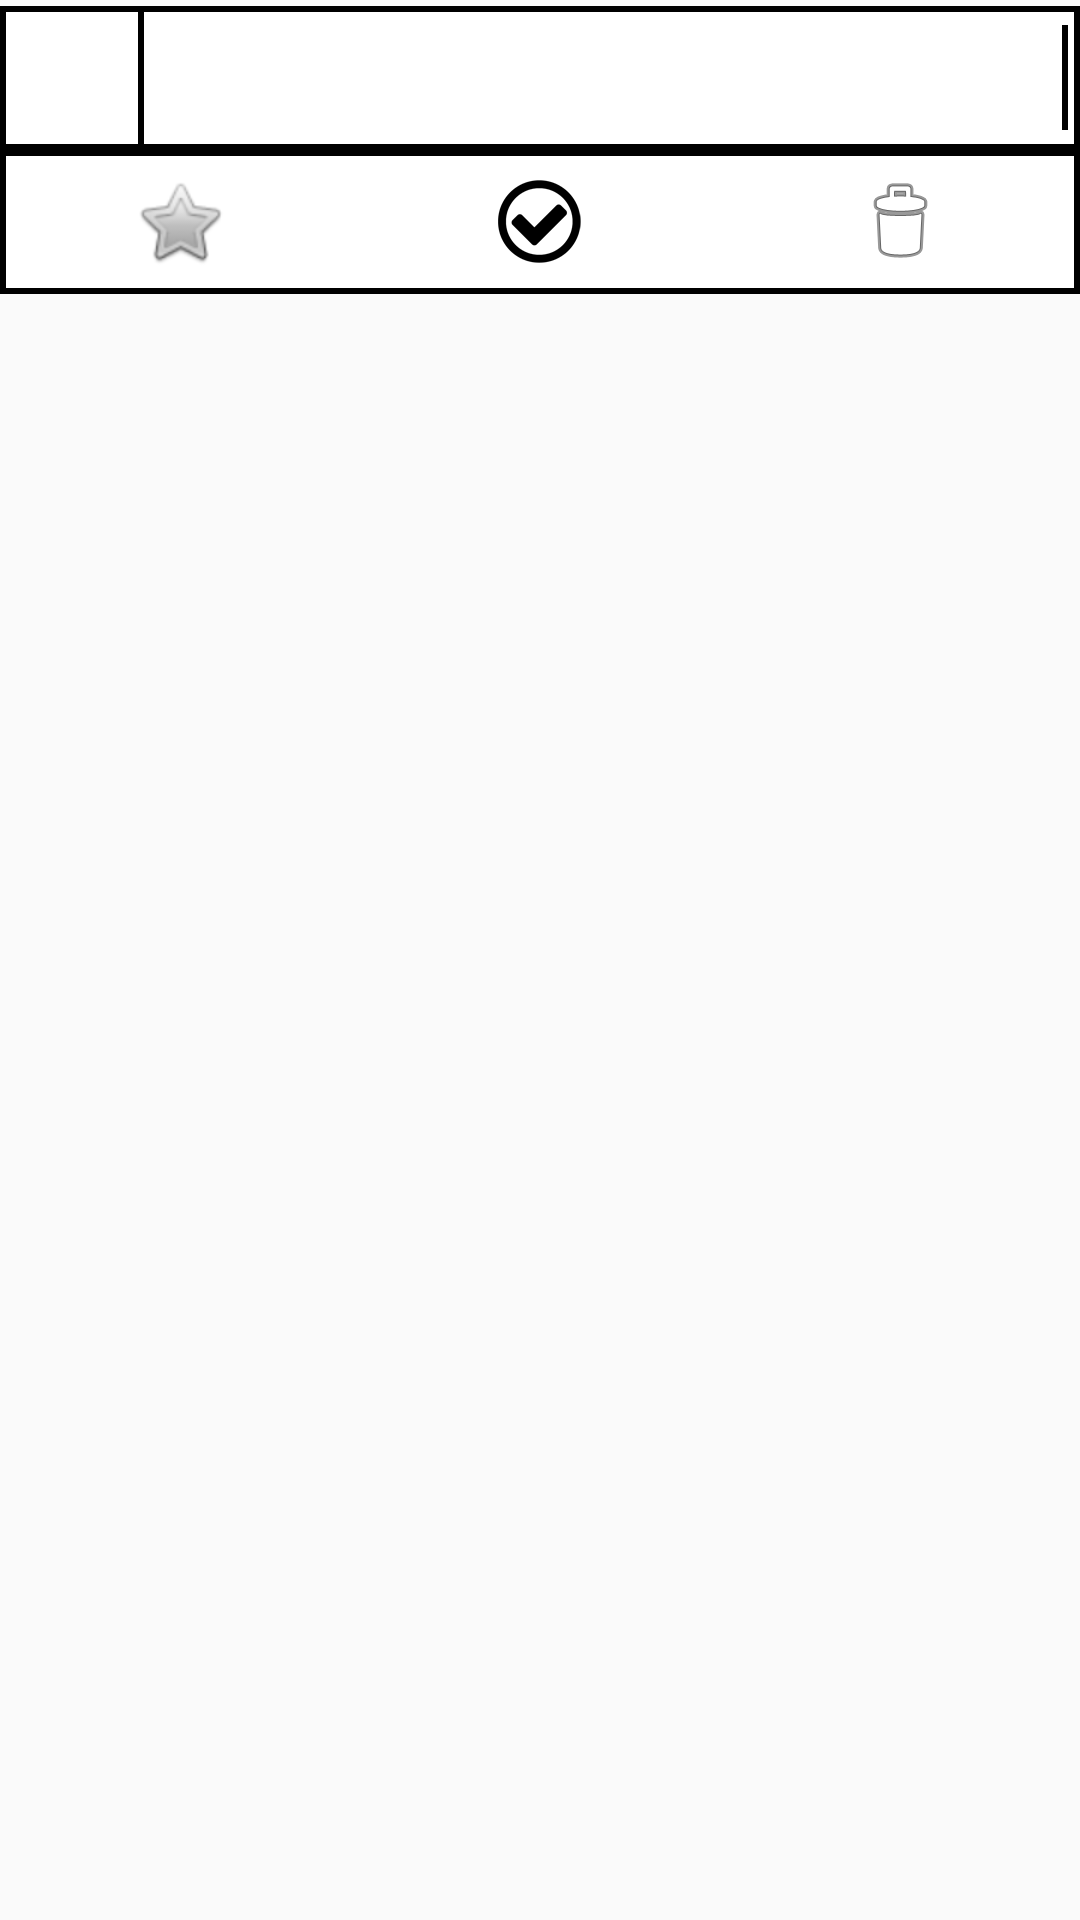

Screen size 1080px×1920px. Icon name, then its box in pixels as (x1, y1, x2, y2):
delete: (873, 183, 928, 258)
star off: (141, 184, 221, 262)
